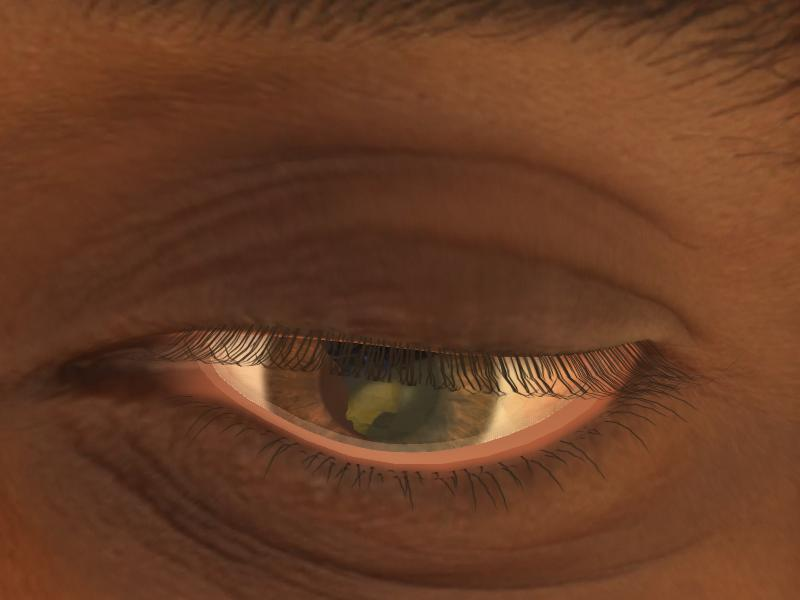eye: (264, 330, 497, 448)
